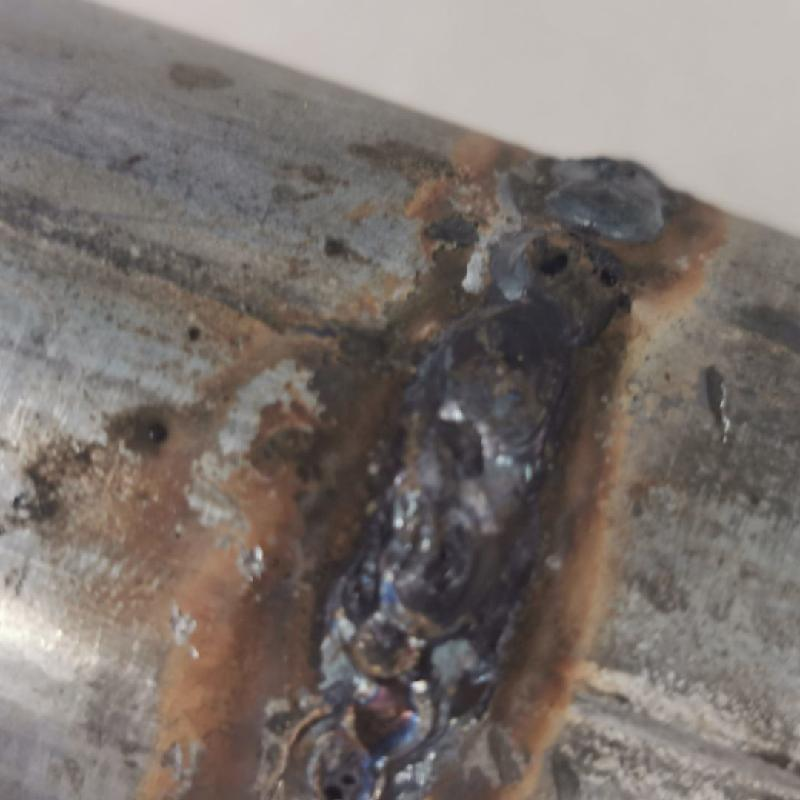Surface_pores: (517, 223, 633, 315)
crater: (263, 475, 497, 795)
wrong_size: (408, 103, 668, 468)
